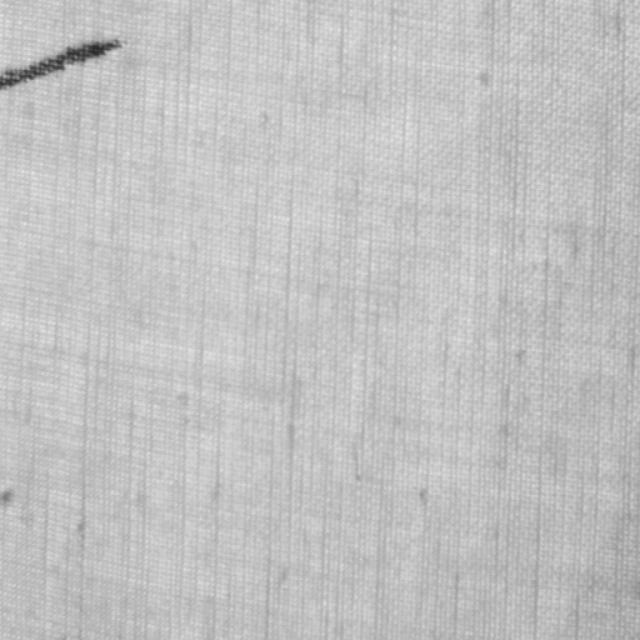oil spot: (0, 32, 125, 92)
